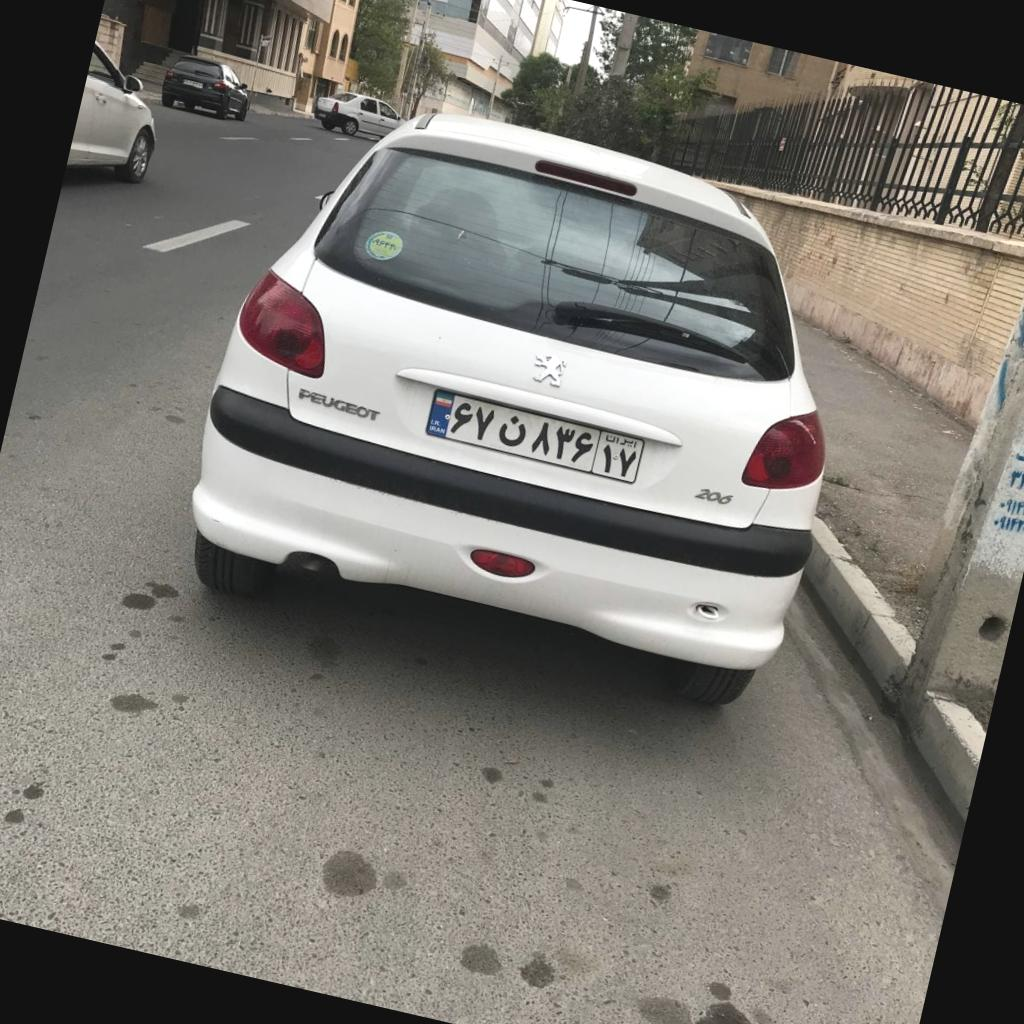Plates: (426, 389, 644, 483)
